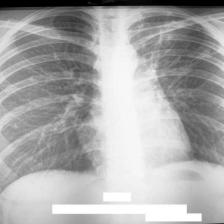tuberculosis: (1, 7, 224, 188)
